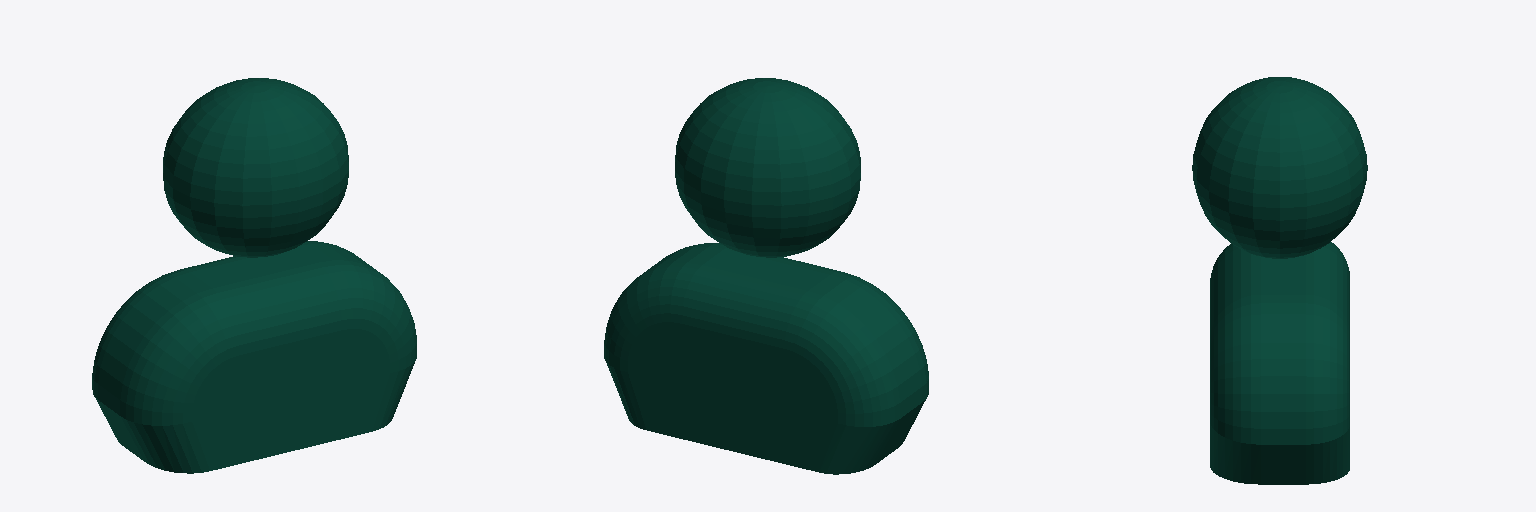
Rendered from person.obj.
3 renders of one model, left to right at view 1: azimuth 30°, elevation 25°; view 2: azimuth 150°, elevation 25°; view 3: azimuth 270°, elevation 25°, orthographic.
Parts seen in each view (by area): view 1: Man_Icon3; view 2: Man_Icon3; view 3: Man_Icon3.
Part boxes in pixels (bbox=[...]): Man_Icon3: bbox=[92, 78, 416, 473]; Man_Icon3: bbox=[604, 78, 928, 474]; Man_Icon3: bbox=[1192, 77, 1367, 484].
Size of the model in its own units: 0.7347 by 0.8216 by 0.3847.